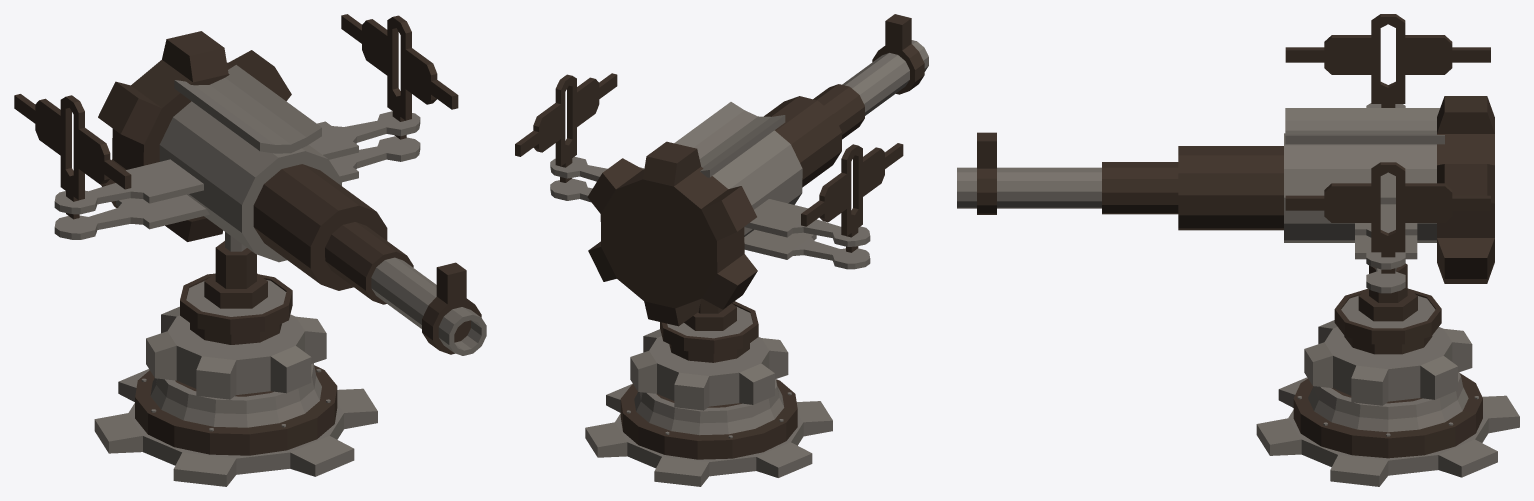
The model's file is turret-nail.glb.
3 renders of one model, left to right at view 1: azimuth 30°, elevation 25°; view 2: azimuth 150°, elevation 25°; view 3: azimuth 270°, elevation 25°, orthographic. The views are drawn at different scales.
Parts seen in each view (by area): view 1: gun, base, mid; view 2: gun, base, mid; view 3: gun, base, mid.
Boxes of the visible parts, left/top/right/bottom form: gun: left=14, top=14, right=486, bottom=355; base: left=94, top=306, right=377, bottom=486; mid: left=180, top=232, right=292, bottom=344; gun: left=515, top=14, right=928, bottom=326; base: left=585, top=329, right=832, bottom=486; mid: left=660, top=298, right=758, bottom=362; gun: left=957, top=14, right=1494, bottom=293; base: left=1256, top=320, right=1519, bottom=486; mid: left=1334, top=263, right=1441, bottom=354.
Bounding box in the file's own units: 2.02 × 1.99 × 2.94.
